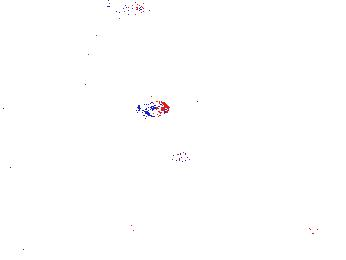X-ray fish: (304, 201, 323, 236), (165, 148, 191, 171)
red belly glassfish: (137, 98, 172, 118), (105, 1, 146, 18)
